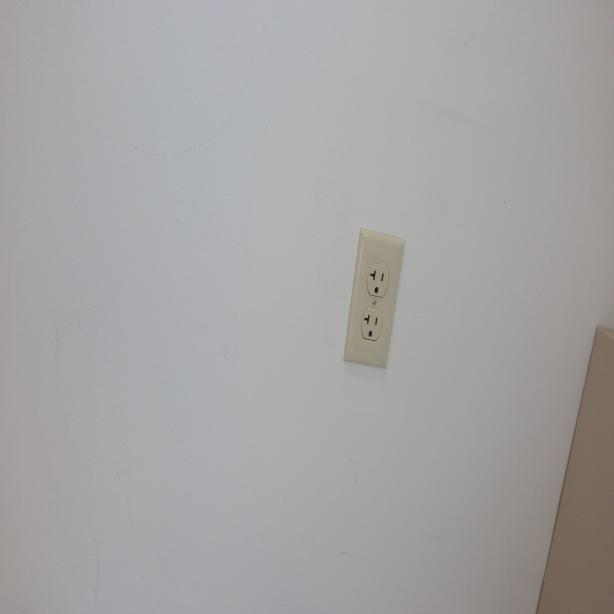typeb: (362, 309, 383, 341), (368, 262, 388, 295)
